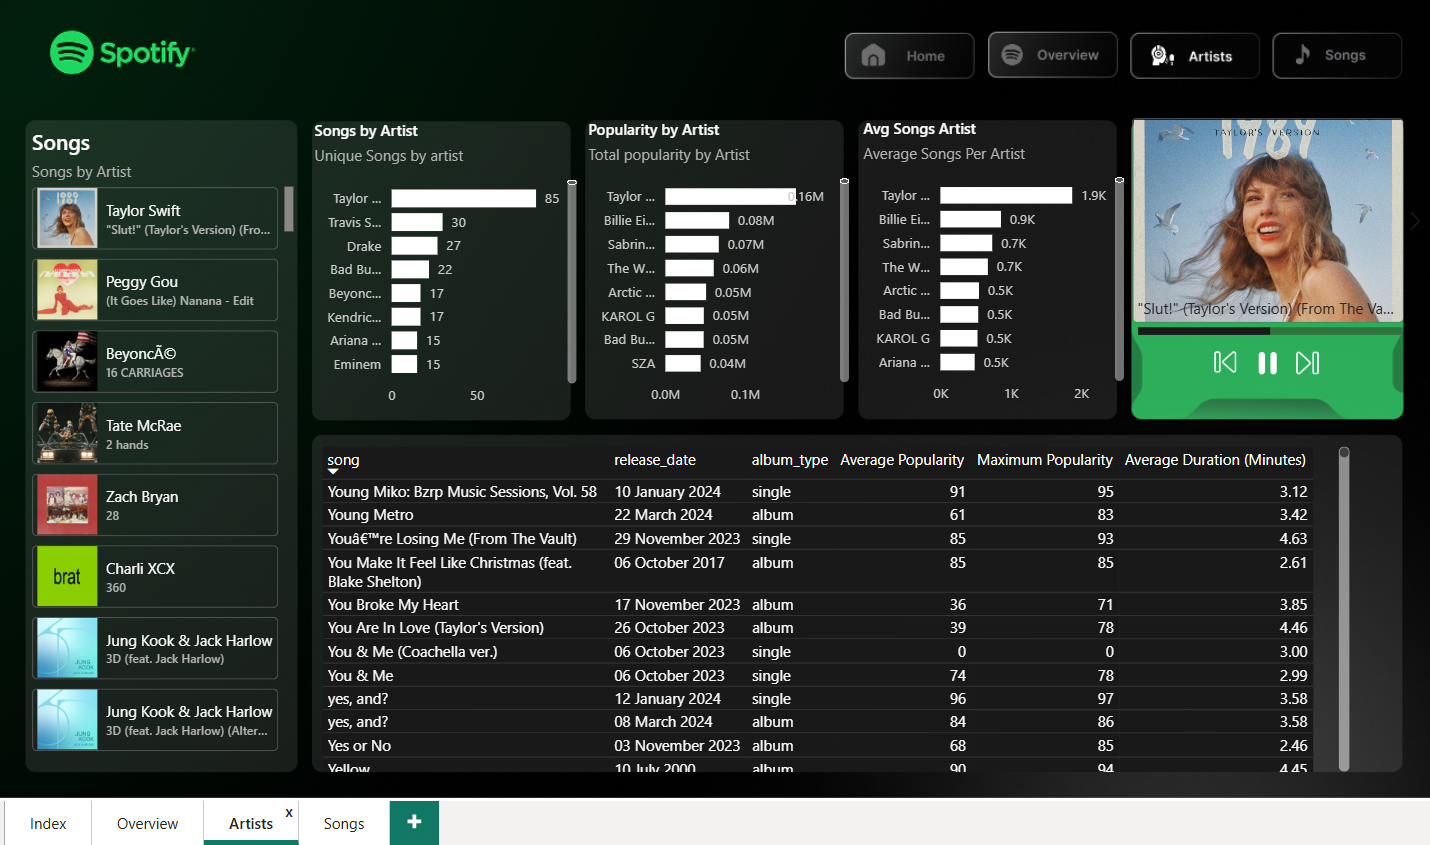

This screenshot's page, from the dashboard's own definition file:
{"tool":"powerbi","page":{"name":"Artists","canvas":[1280,720],"ordinal":2},"visuals":[{"type":"actionButton","box":[755.8,33,115.1,39.5],"z":0},{"type":"actionButton","box":[1140.5,33.3,115.1,39.5],"z":1000},{"type":"actionButton","box":[757.9,35.6,115.1,39.5],"z":2000},{"type":"actionButton","box":[1012.3,33.5,115.1,39.5],"z":3000},{"type":"actionButton","box":[884.7,34.9,115.1,36],"z":4000},{"type":"image","box":[1123.7,314.9,19.8,27.9],"z":5000},{"type":"image","box":[1083.7,313.7,22.1,27.9],"z":6000},{"type":"image","box":[1156,316.7,26.7,23.3],"z":7000},{"type":"hundredPercentStackedBarChart","fields":{"Y":["_Measures.Average Popularity","Avg(Top-50-World.popularity)"]},"box":[1013.3,265.8,246.5,62.8],"z":8000},{"type":"advancedSlicerVisual","title":"Songs ","fields":{"Values":["Top-50-World.song"]},"box":[987,104.7,293.3,193],"z":9000},{"type":"shape","box":[1010.5,109.3,247.7,270.9],"z":10000},{"type":"clusteredBarChart","title":" Songs by Artist","fields":{"Category":["Top-50-World.artist"],"Y":["_Measures.Unique Songs"]},"box":[276.7,111.6,244.2,264],"z":11000},{"type":"clusteredBarChart","title":" Popularity by Artist","fields":{"Y":["Sum(Top-50-World.popularity)"],"Category":["Top-50-World.artist"]},"box":[521.9,110.2,243,264],"z":12000},{"type":"clusteredBarChart","title":"Avg  Songs  Artist","fields":{"Y":["_Measures.Average Songs Per Artist"],"Category":["Top-50-World.artist"]},"box":[767.4,109.5,243,264],"z":13000},{"type":"advancedSlicerVisual","title":"Songs ","fields":{"Values":["Top-50-World.song"]},"box":[24.4,118.6,243,562.6],"z":14000},{"type":"tableEx","fields":{"Values":["Top-50-World.song","Top-50-World.release_date","Top-50-World.album_type","_Measures.Average Popularity","_Measures.Maximum Popularity","_Measures.Average Duration (Minutes)"]},"box":[282,399,928.8,300],"z":14001}]}

Visuals, with their boxes on the page's 1280x720 design canvas (x1, y1, x2, y2). These are canvas units, not pixel positions in the 1430x845 screenshot, which may show the page scaled, cropped or inside an application window:
actionButton: {"left": 756, "top": 33, "right": 871, "bottom": 72}
actionButton: {"left": 1140, "top": 33, "right": 1256, "bottom": 73}
actionButton: {"left": 758, "top": 36, "right": 873, "bottom": 75}
actionButton: {"left": 1012, "top": 34, "right": 1127, "bottom": 73}
actionButton: {"left": 885, "top": 35, "right": 1000, "bottom": 71}
image: {"left": 1124, "top": 315, "right": 1144, "bottom": 343}
image: {"left": 1084, "top": 314, "right": 1106, "bottom": 342}
image: {"left": 1156, "top": 317, "right": 1183, "bottom": 340}
hundredPercentStackedBarChart - _Measures.Average Popularity x Avg(Top-50-World.popularity): {"left": 1013, "top": 266, "right": 1260, "bottom": 329}
"Songs " advancedSlicerVisual: {"left": 987, "top": 105, "right": 1280, "bottom": 298}
shape: {"left": 1010, "top": 109, "right": 1258, "bottom": 380}
" Songs by Artist" clusteredBarChart: {"left": 277, "top": 112, "right": 521, "bottom": 376}
" Popularity by Artist" clusteredBarChart: {"left": 522, "top": 110, "right": 765, "bottom": 374}
"Avg  Songs  Artist" clusteredBarChart: {"left": 767, "top": 110, "right": 1010, "bottom": 374}
"Songs " advancedSlicerVisual: {"left": 24, "top": 119, "right": 267, "bottom": 681}
tableEx - Top-50-World.song x Top-50-World.release_date: {"left": 282, "top": 399, "right": 1211, "bottom": 699}
